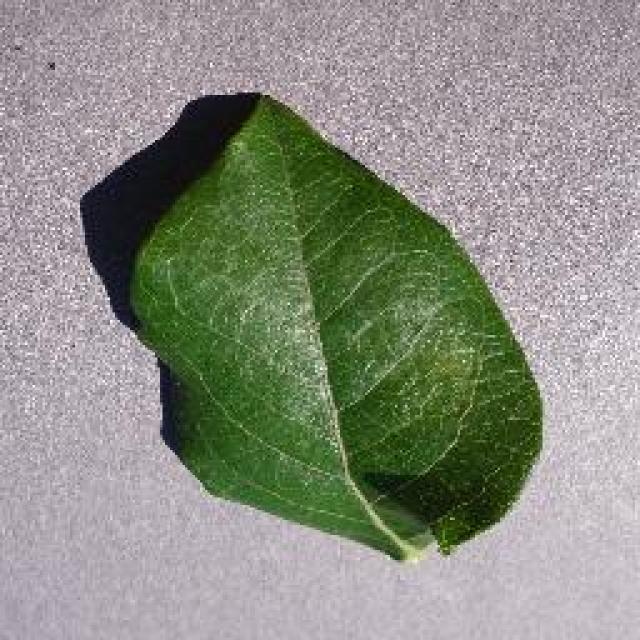Blu_healthy: (178, 155, 510, 519)
